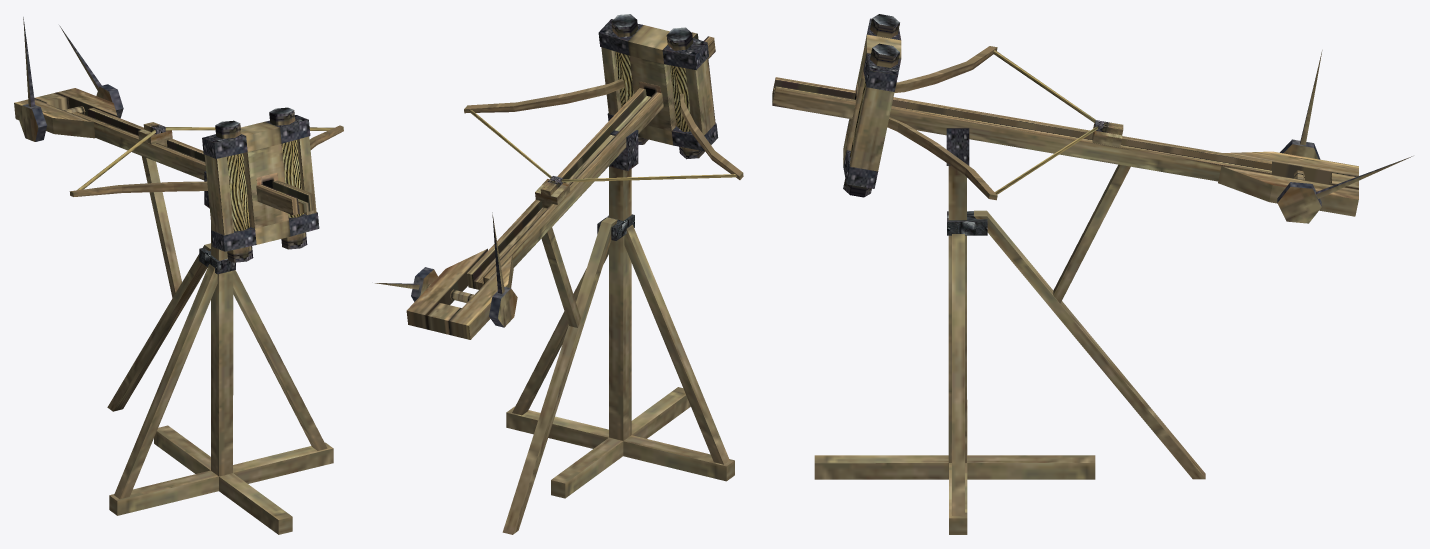
The model's file is rome_siege_scorpio.dae.
The picture shows the model from 3 angles, left to right: view 1: azimuth 30°, elevation 25°; view 2: azimuth 150°, elevation 25°; view 3: azimuth 270°, elevation 25°; orthographic projection. The views are drawn at different scales.
Visible parts, largest first — view 1: Box40; view 2: Box40; view 3: Box40.
Boxes of the visible parts, <box> form: Box40: <box>14,17,343,534</box>; Box40: <box>375,14,743,534</box>; Box40: <box>772,14,1412,534</box>.
Bounding box in the file's own units: 3 × 5.5 × 4.18.
